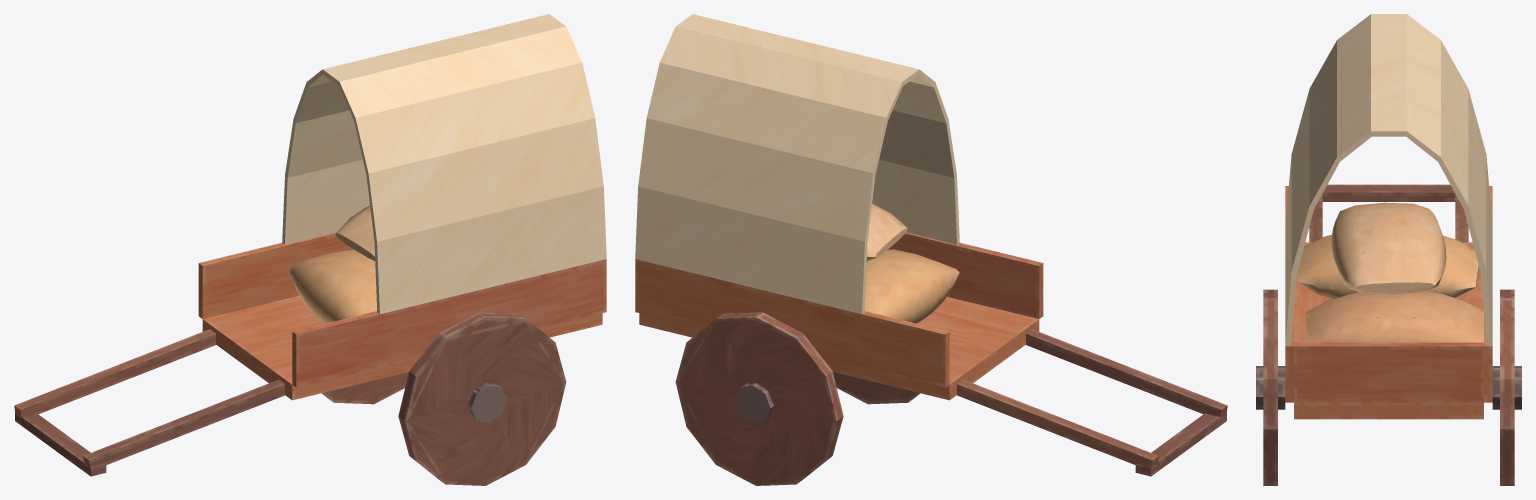
Rendered from cart.bundle.fbx.
The picture shows the model from 3 angles, left to right: view 1: azimuth 30°, elevation 25°; view 2: azimuth 150°, elevation 25°; view 3: azimuth 270°, elevation 25°; orthographic projection. The views are drawn at different scales.
Visible parts, largest first — view 1: cart, cart_low, cart_s07, cart_s05, cart_s06; view 2: cart, cart_low, cart_s05, cart_s07; view 3: cart, cart_s00, cart_low, cart_s03, cart_s06.
Boxes of the visible parts, x1,y1,x2,y2 form: cart: (14, 14, 606, 485); cart_low: (294, 209, 565, 483); cart_s07: (203, 237, 350, 348); cart_s05: (244, 240, 396, 399); cart_s06: (539, 313, 602, 337); cart: (635, 14, 1227, 485); cart_low: (676, 206, 950, 483); cart_s05: (872, 207, 1039, 368); cart_s07: (822, 281, 966, 399); cart: (1256, 14, 1521, 485); cart_s00: (1330, 317, 1483, 419); cart_low: (1256, 205, 1521, 409); cart_s03: (1294, 258, 1334, 342); cart_s06: (1294, 215, 1424, 419).
Size of the model in its own units: 8.48 by 6.25 by 3.64.
1 material, 1 textured.
